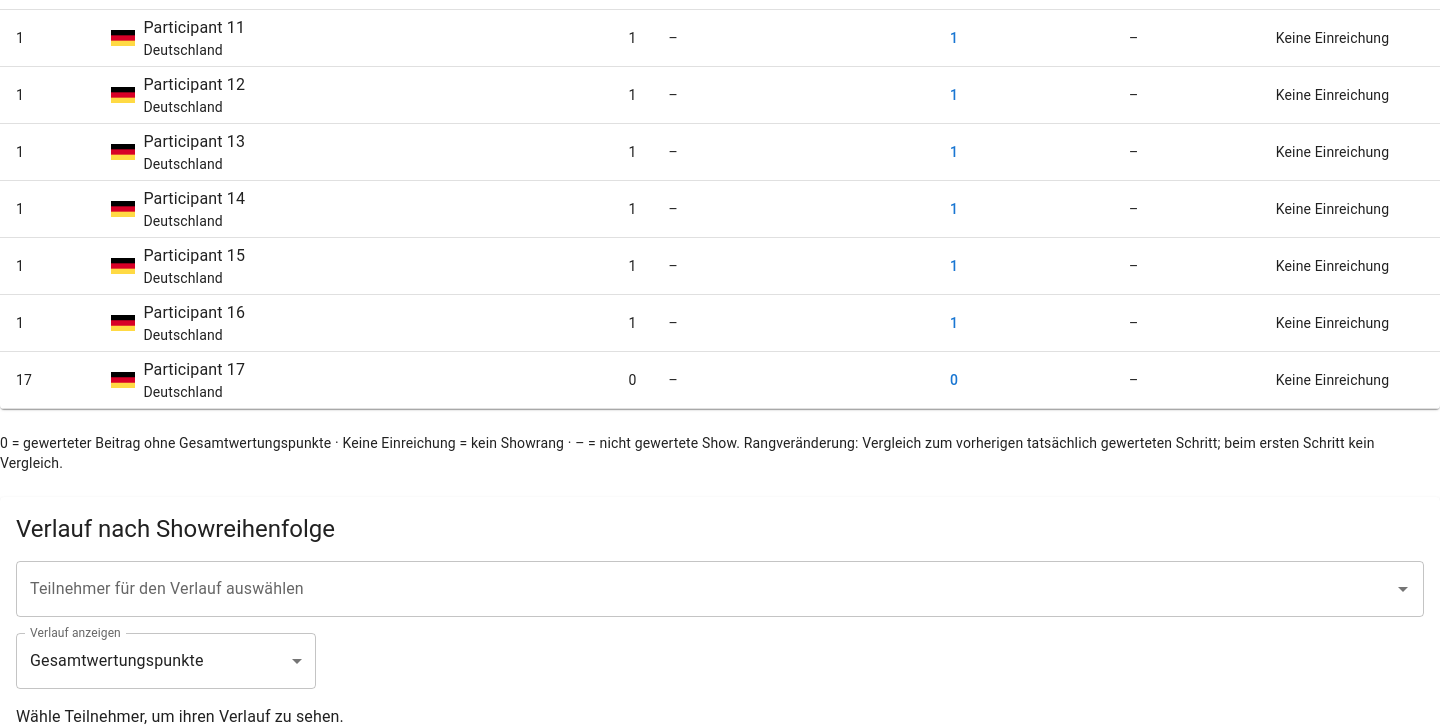
Test case: contest standings › renders complete boundary groups, distinct cells, details and selectable history from the response
The image size is (1440, 727).
(page scrolled)
Check: the button named "Participant 17, Show 1: 0 Gesamtwertungspunkte, Details" is shown, box [922, 362, 986, 398]
Click the button named "Participant 16, Show 1: 1 Gesamtwertungspunkte, Details". click: [954, 323]
box: [922, 305, 986, 341]
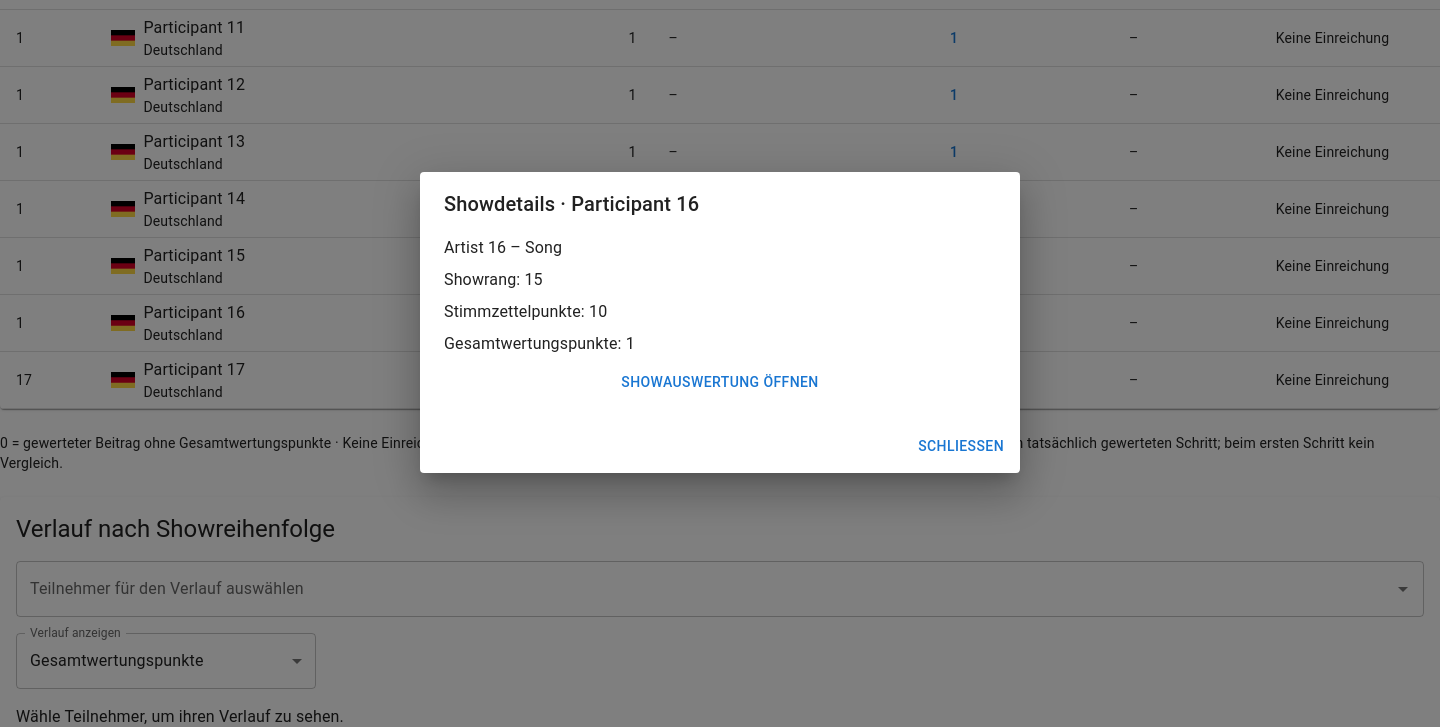
Check: the dialog shows "Showrang: 15", box [420, 172, 1020, 472]
Check: the dialog shows "Stimmzettelpunkte: 10", box [420, 172, 1020, 472]
Click the button "Schließen". click: [961, 446]
box: [910, 428, 1012, 464]
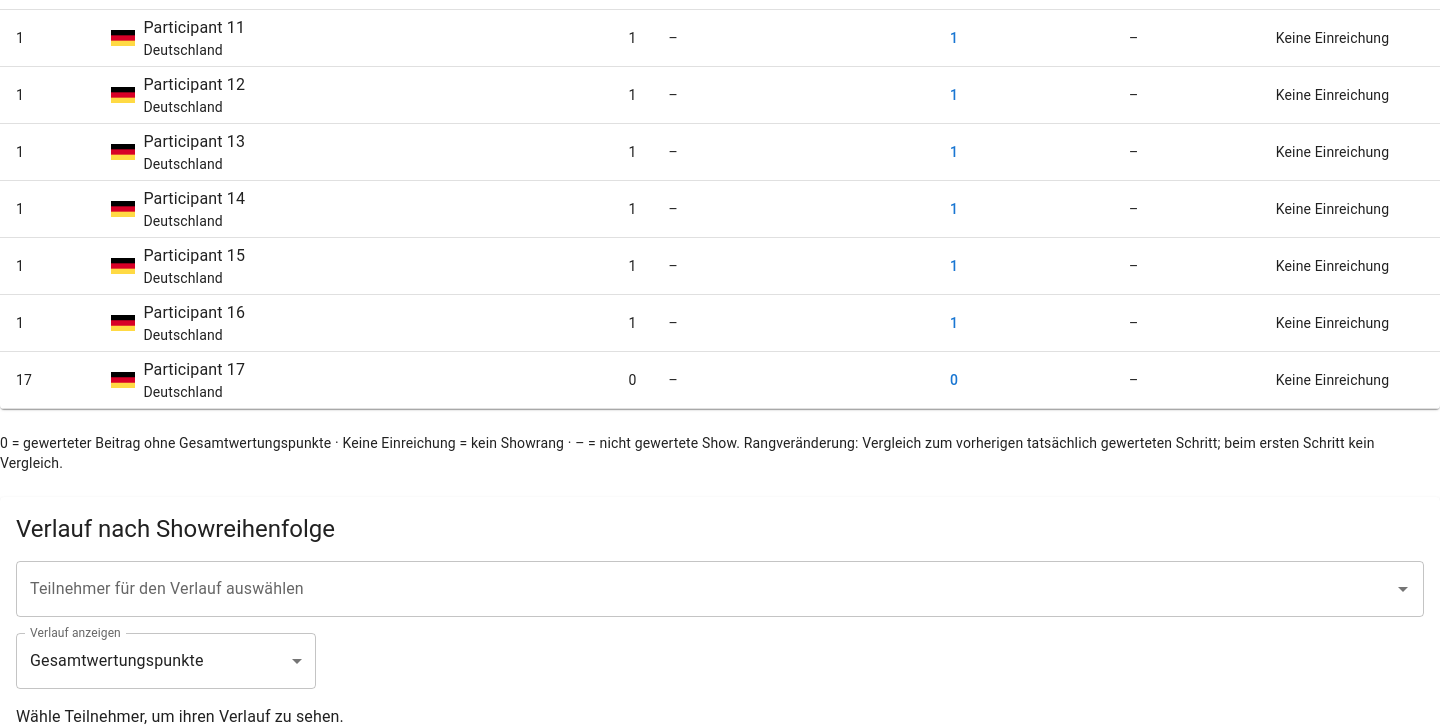
Click the dropdown labelled "Teilnehmer für den Verlauf auswählen". click: [705, 589]
box: [25, 570, 1385, 608]
(page scrolled)
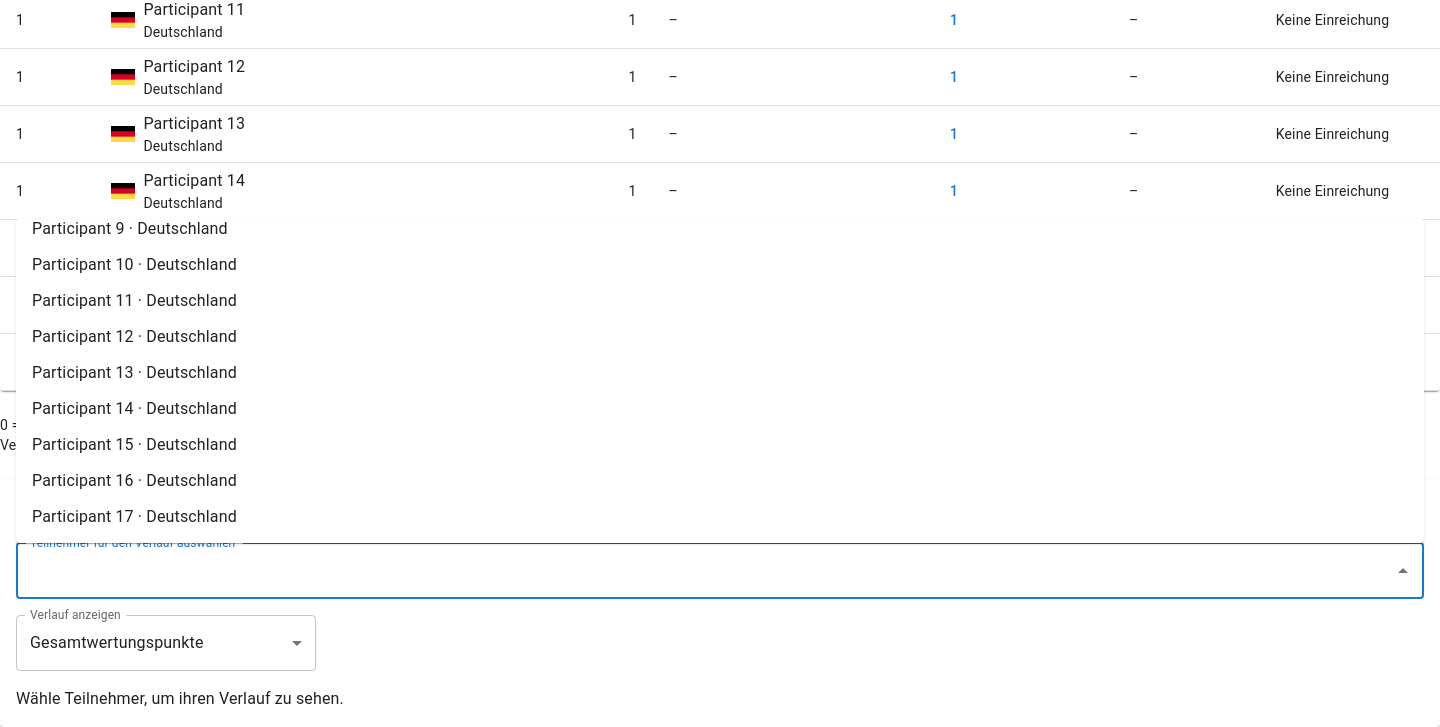
Click the option "Participant 16 · Deutschland". click: [134, 480]
box: [32, 471, 237, 490]
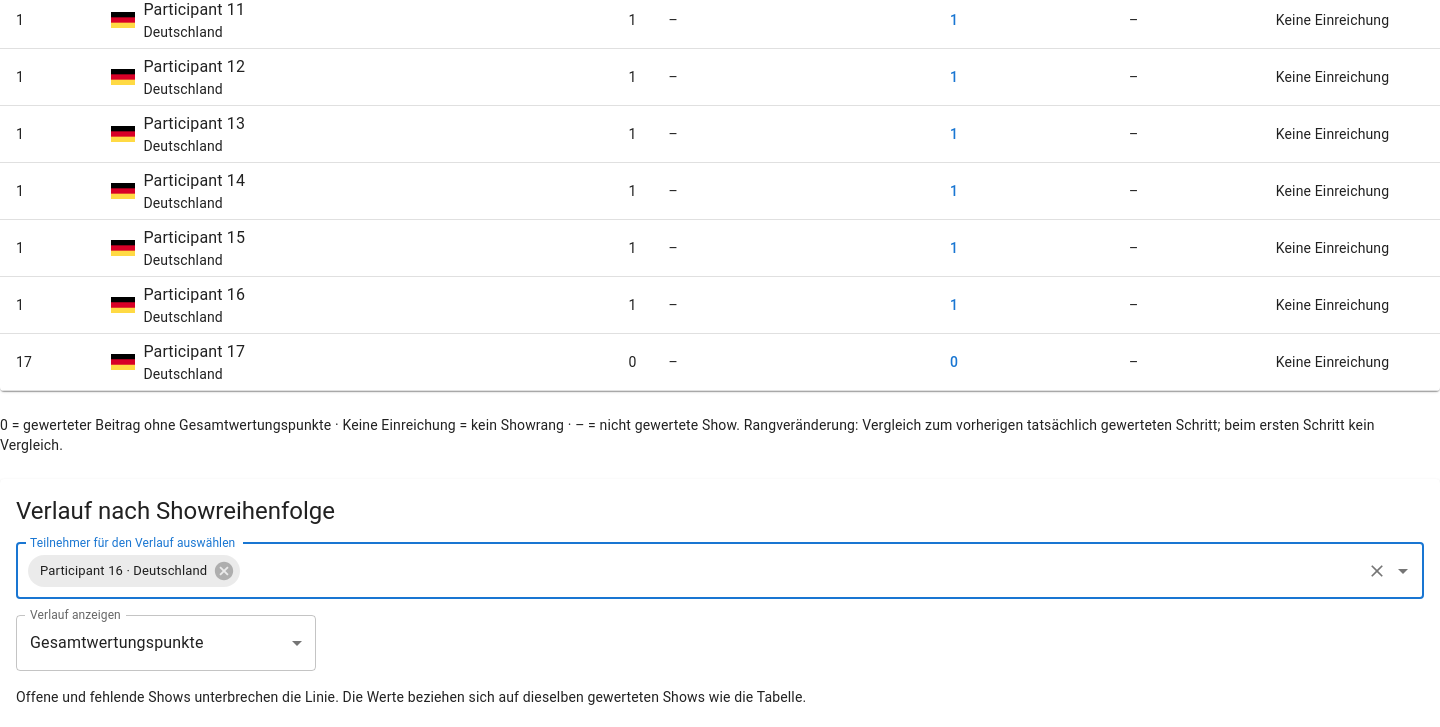
Click the dropdown named "Verlauf anzeigen". click: [117, 643]
box: [30, 634, 204, 652]
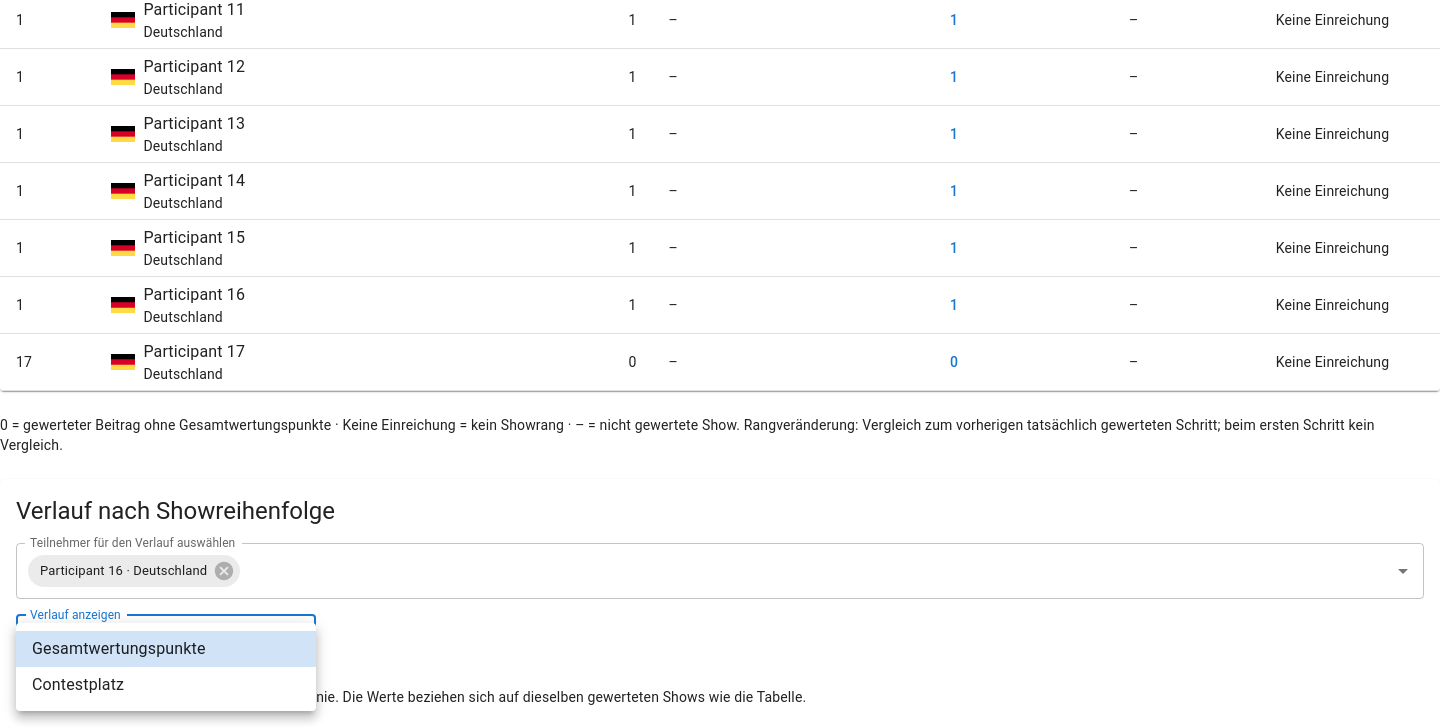
Click the option "Contestplatz". click: [78, 684]
box: [32, 675, 124, 694]
(page scrolled)
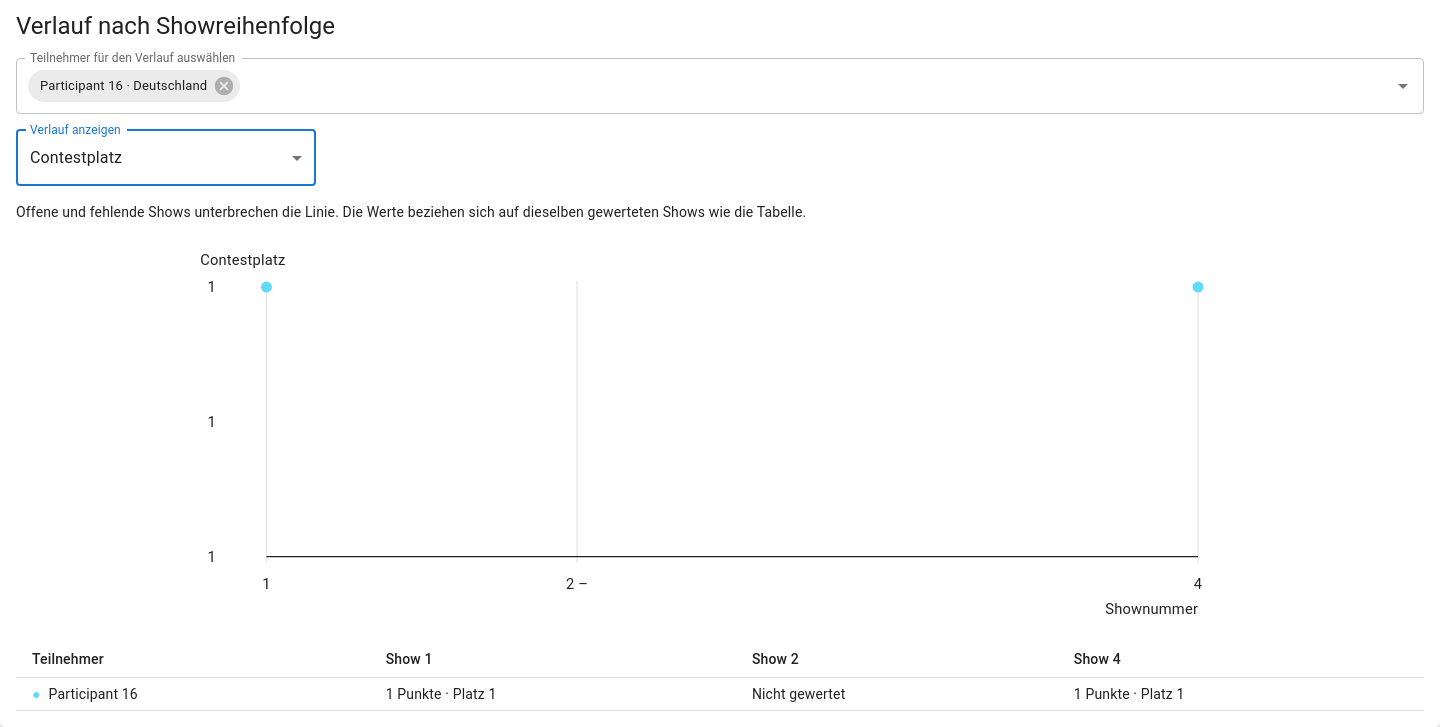
Check: the picture named "Contestplatz nach Showreihenfolge" is shown, box [16, 238, 1424, 618]
